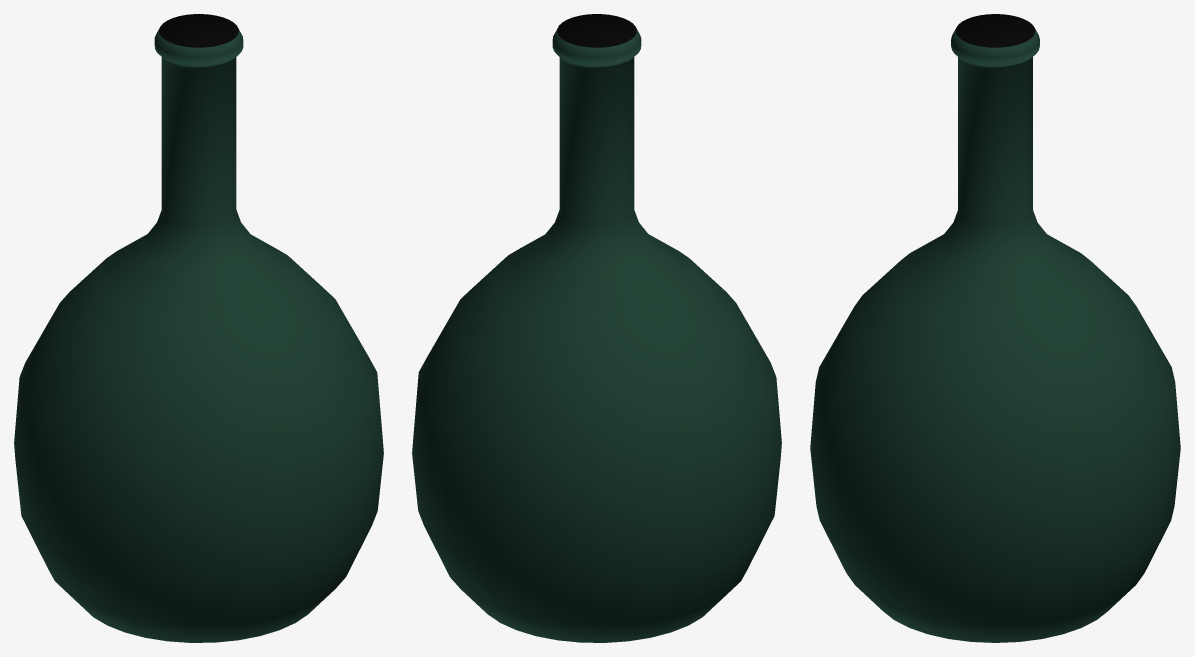
Rendered from kerosene.fbx.
3 renders of one model, left to right at view 1: azimuth 30°, elevation 25°; view 2: azimuth 150°, elevation 25°; view 3: azimuth 270°, elevation 25°, orthographic.
Parts seen in each view (by area): view 1: Kerosene; view 2: Kerosene; view 3: Kerosene.
Part boxes in pixels (left/top/right/bottom): Kerosene: left=14, top=14, right=383, bottom=642; Kerosene: left=412, top=14, right=781, bottom=642; Kerosene: left=810, top=14, right=1180, bottom=642.
Size of the model in its own units: 0.4036 by 0.4036 by 0.6738.
